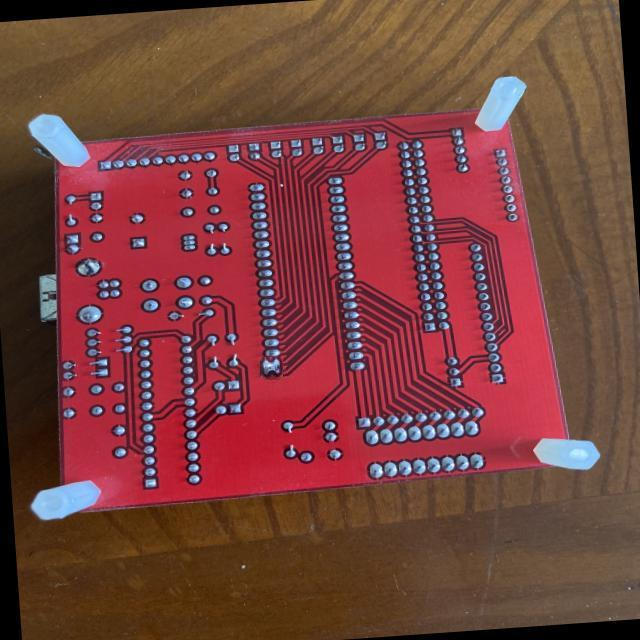damged: (260, 357, 284, 380)
